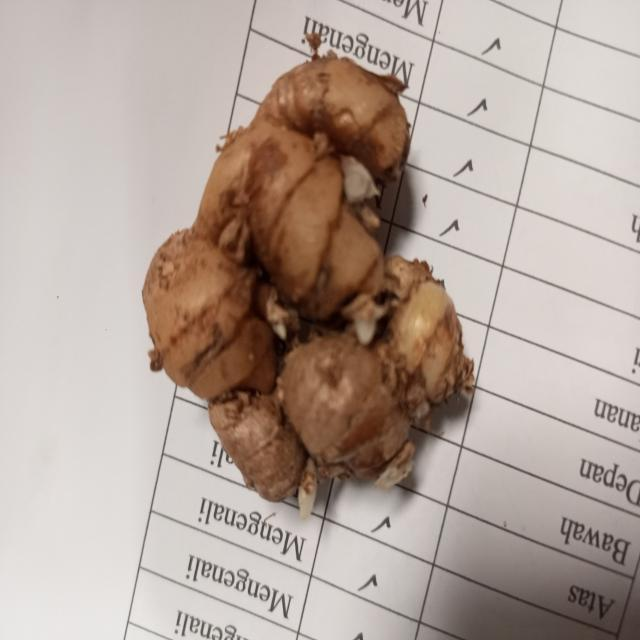ginger: (153, 53, 454, 474)
